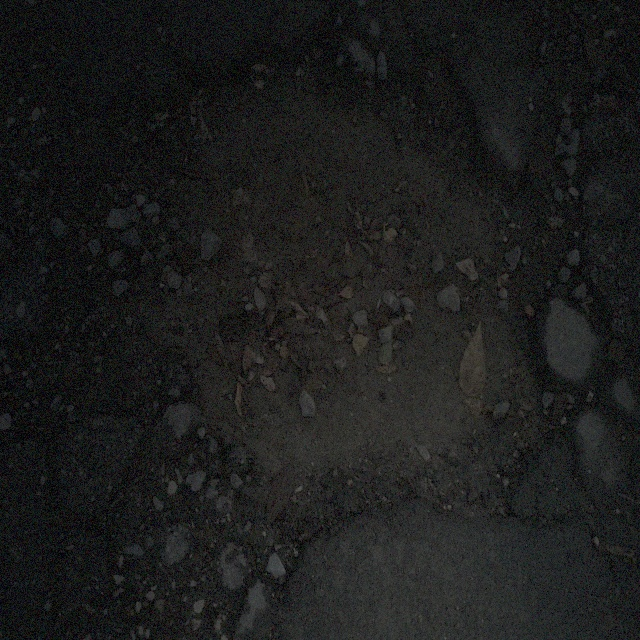pothole: (118, 41, 582, 566)
